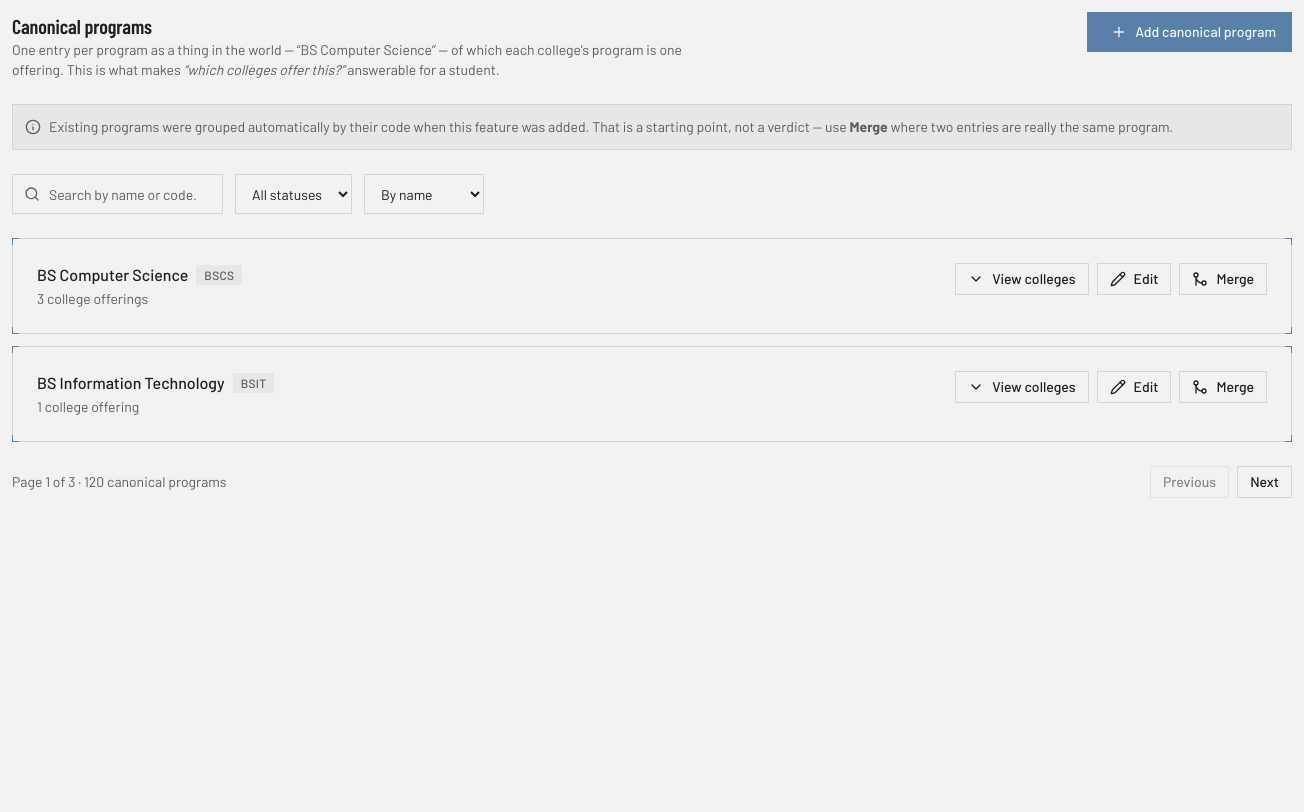
CanonicalProgramPage — merge target picker › never offers the source as its own target
Click the button with aria-label "merge bscs": click(1223, 279) [1179,263,1267,295]
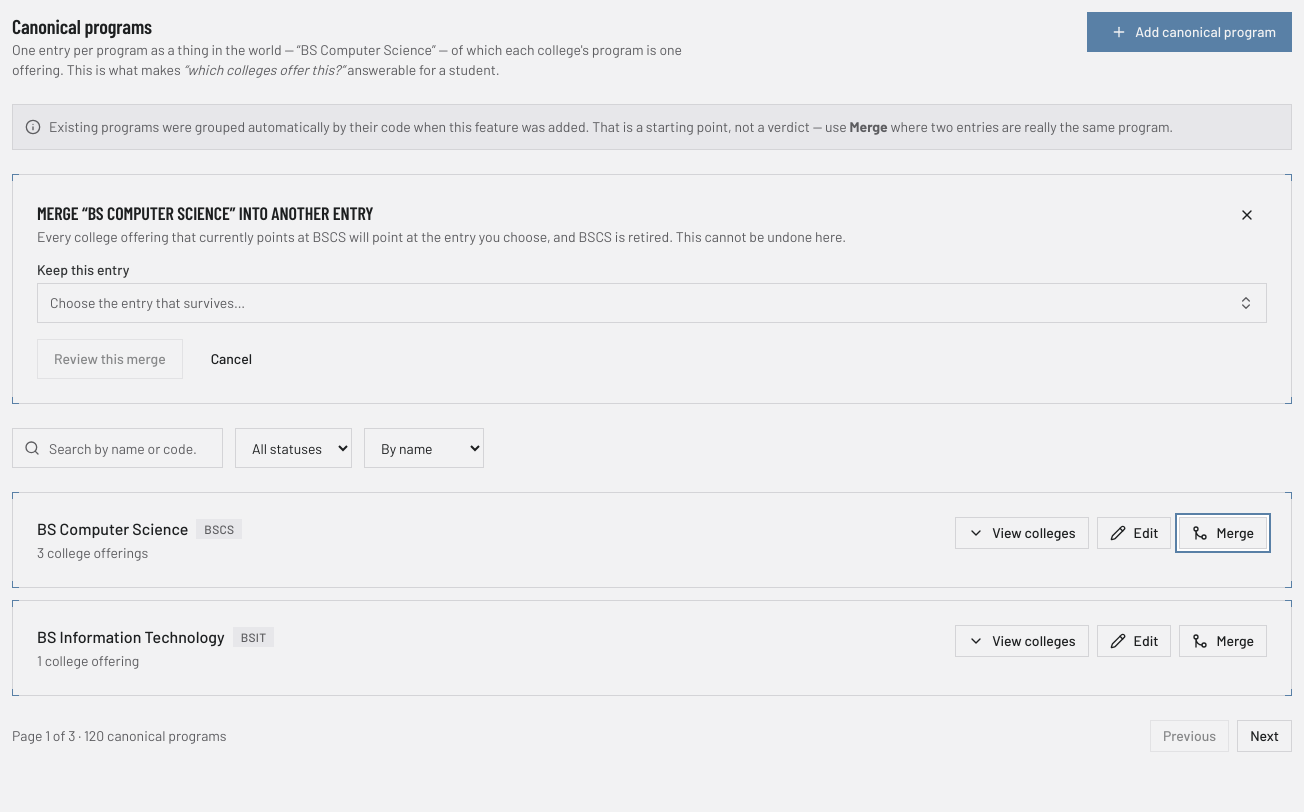
Click the button named "keep this entry": click(148, 302) [37,283,1267,323]
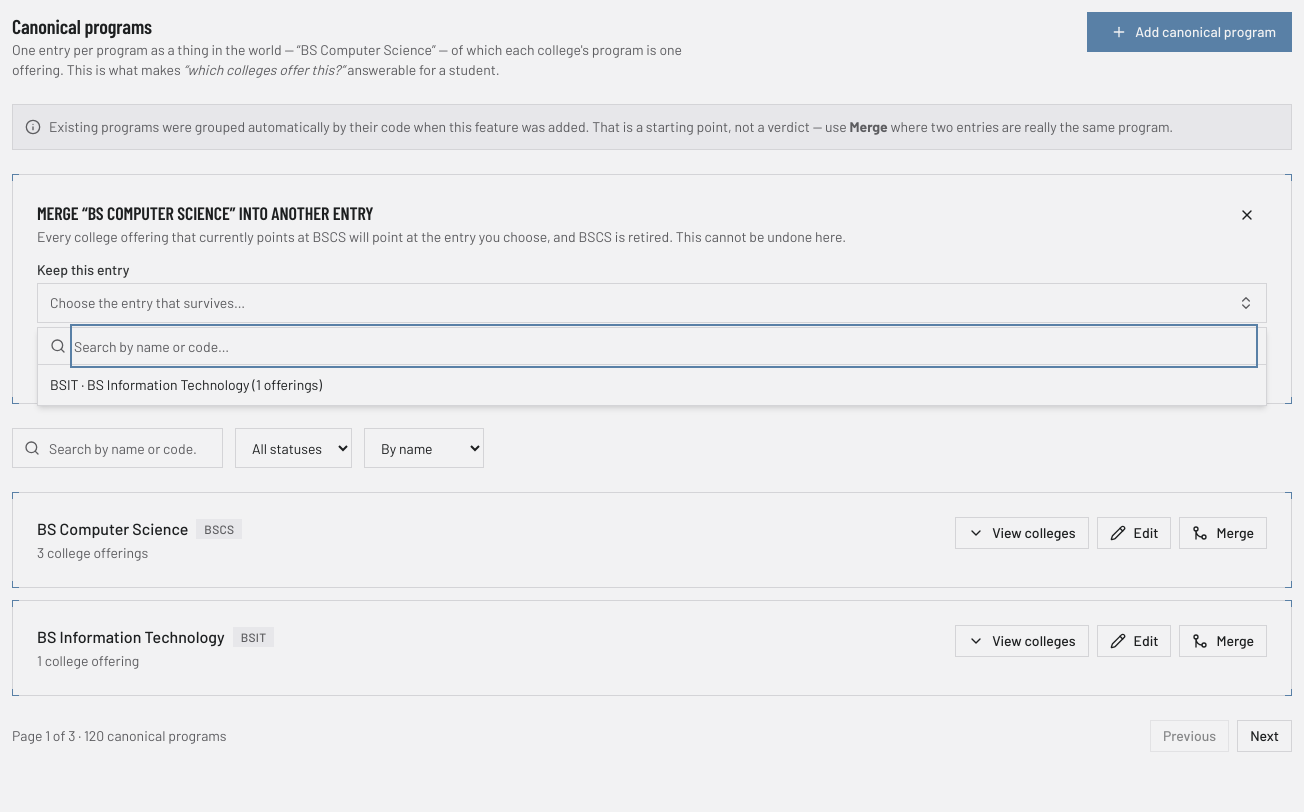
Expected: the option "BSIT · BS Information Technology (1 offerings)" is shown, [38,369,1266,401]
